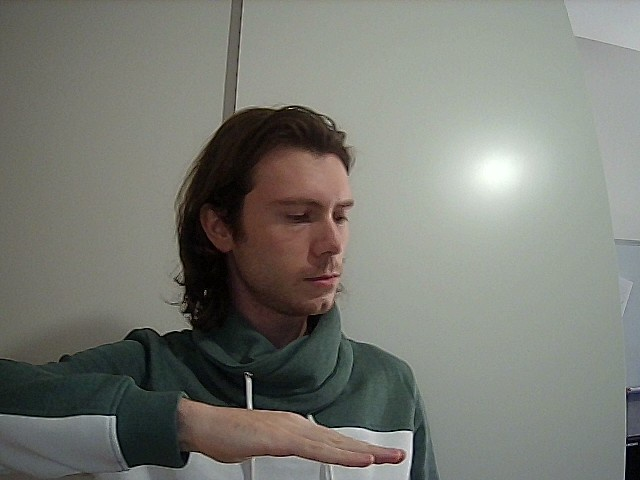space: (1, 367, 433, 475)
